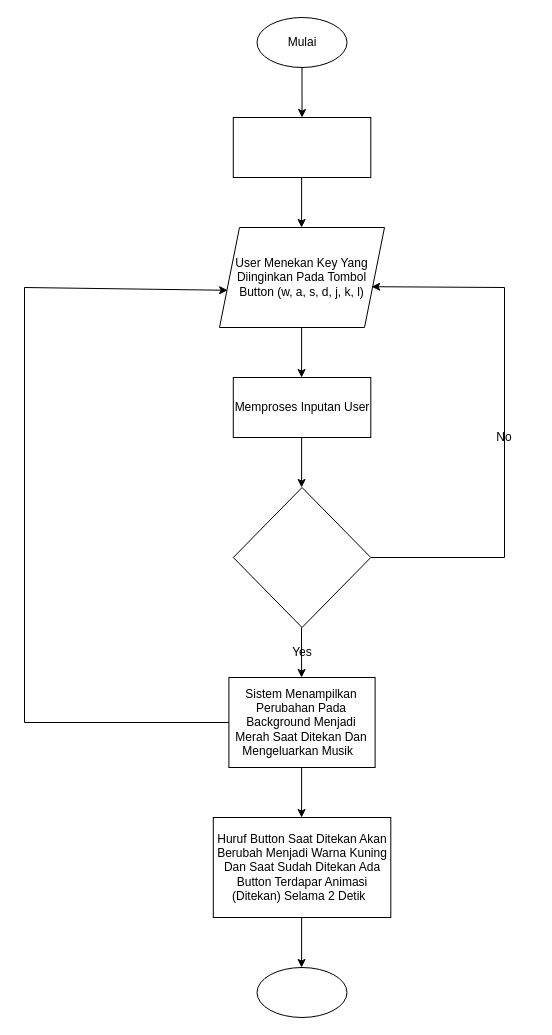
The diagram is 552 pixels wide and 1035 high, and some of its shapes have lost their labels. Here are the shapes that lost their labels. From the top down, the box of each, then its label:
(232, 116, 371, 178): Membuka Link Browser
(232, 486, 371, 628): Sistem Menginput Yang Ditekan Oleh User
(256, 966, 347, 1018): Selesai
